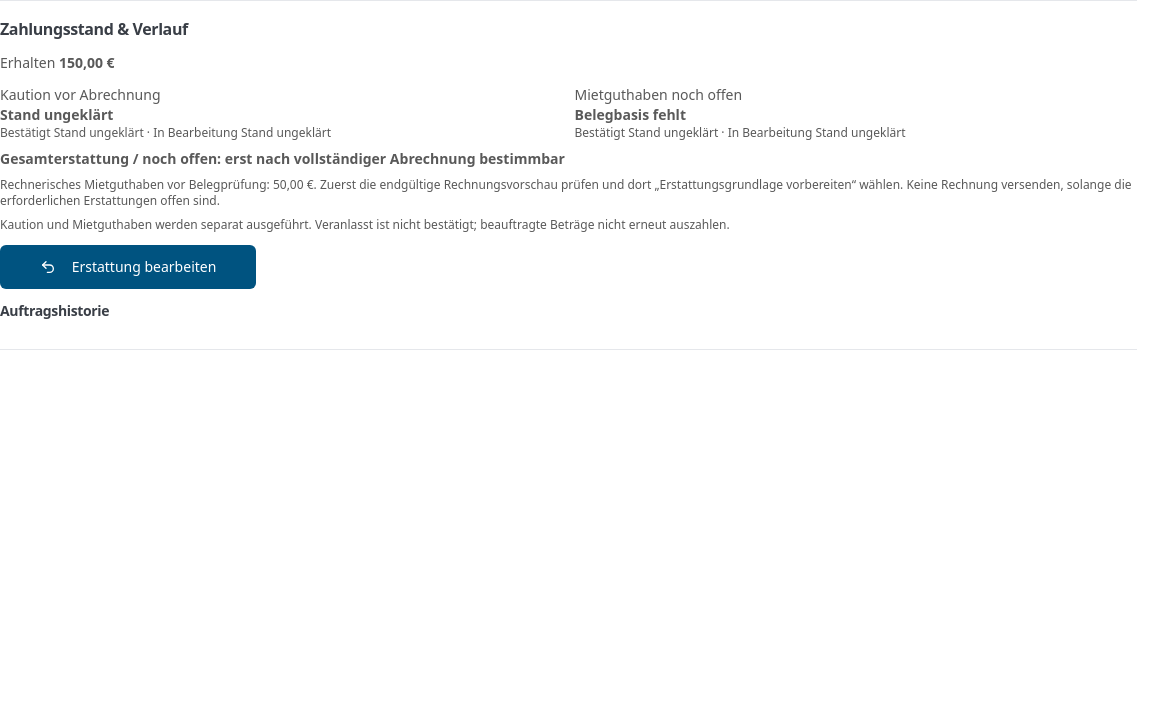
over-cap amount cannot be submitted
Click the button "Erstattung bearbeiten" at (128,267), box [0,245,256,289]
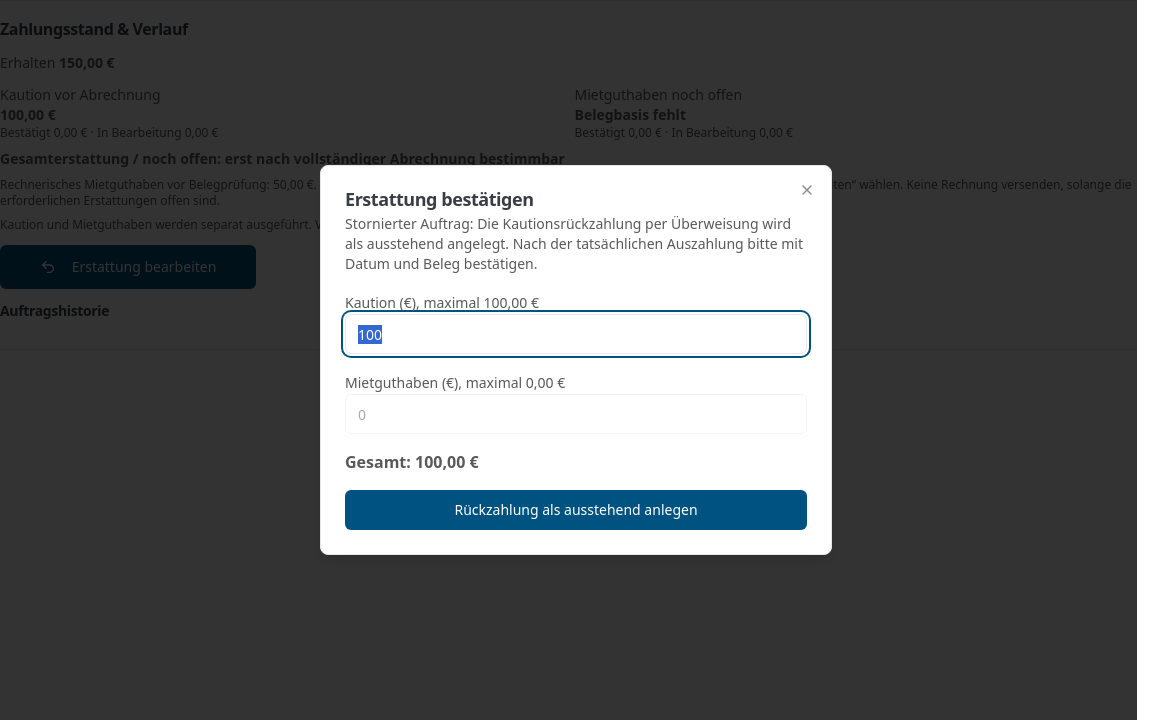
Replace the text in the field labelled "Kaution (€), maximal 100,00 €" with "100.01" at (576,334), box [345,314,807,354]
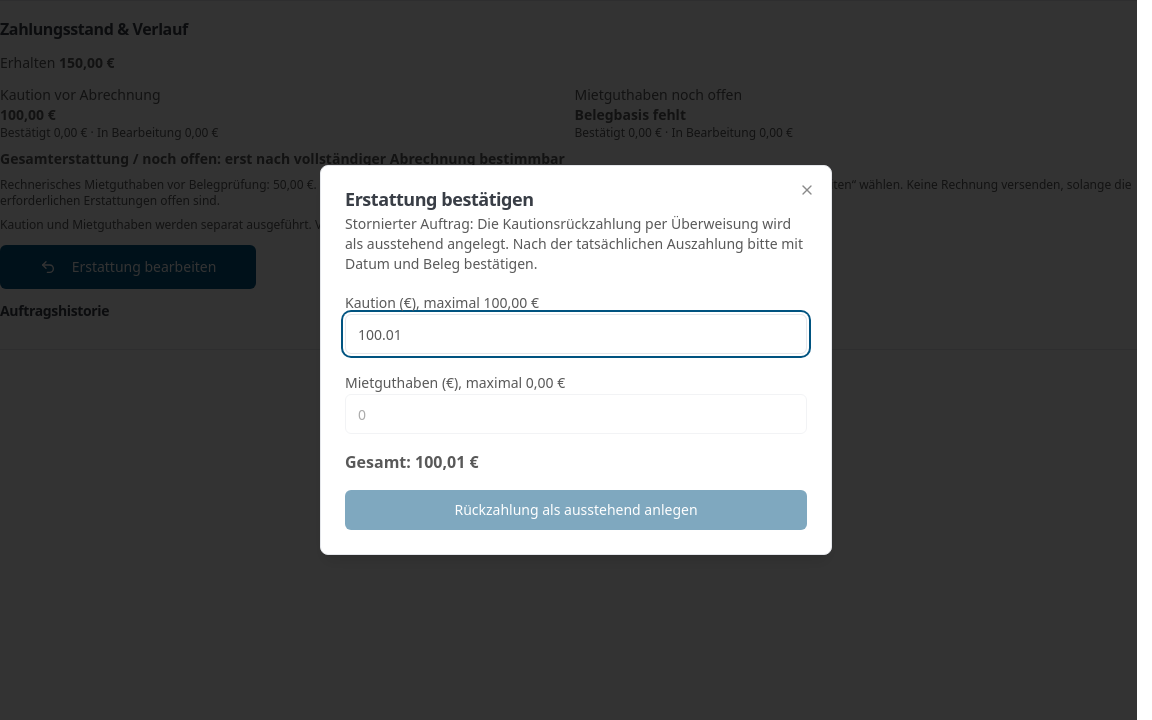
Expected: the button "Rückzahlung als ausstehend anlegen" is disabled, [345,490,807,530]
